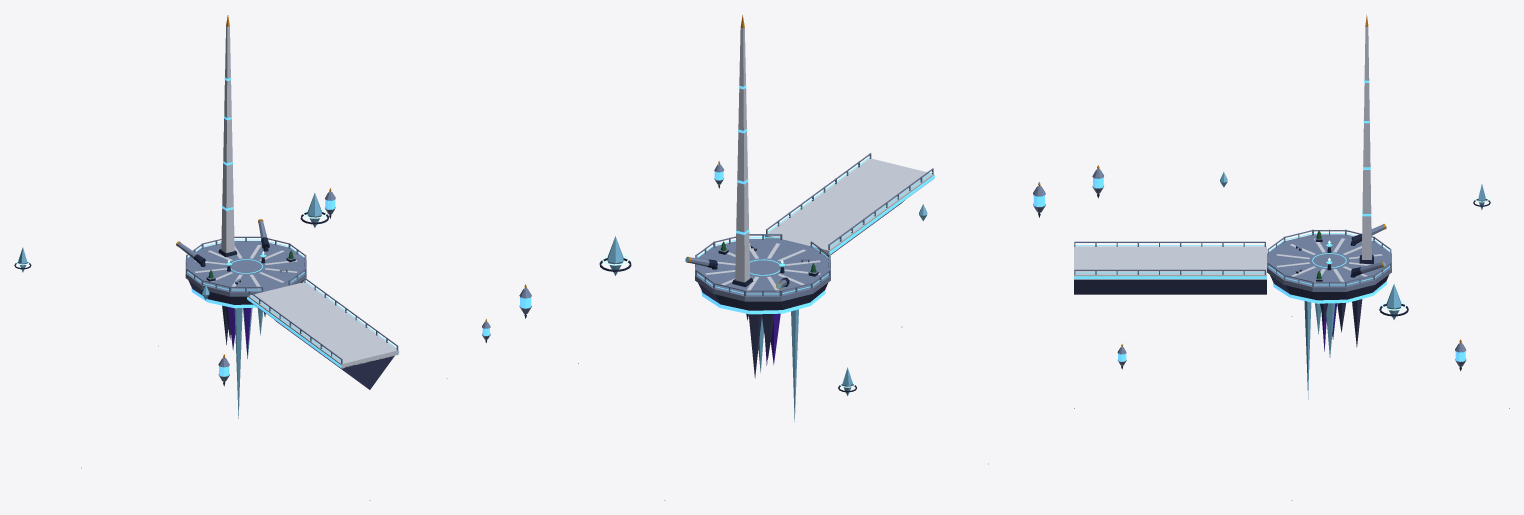
The model's file is chunk_cap_overlook.fbx.
3 views of the same model, side by side, from view 1: azimuth 30°, elevation 25°; view 2: azimuth 150°, elevation 25°; view 3: azimuth 270°, elevation 25° (orthographic). The views are drawn at different scales.
Visible parts, largest first — view 1: chunk_cap_overlook; view 2: chunk_cap_overlook; view 3: chunk_cap_overlook.
Boxes of the visible parts, <box> form: chunk_cap_overlook: <box>14,15,490,500</box>; chunk_cap_overlook: <box>519,15,1045,500</box>; chunk_cap_overlook: <box>1074,14,1509,500</box>.
Bounding box in the file's own units: 256 × 256 × 256.
